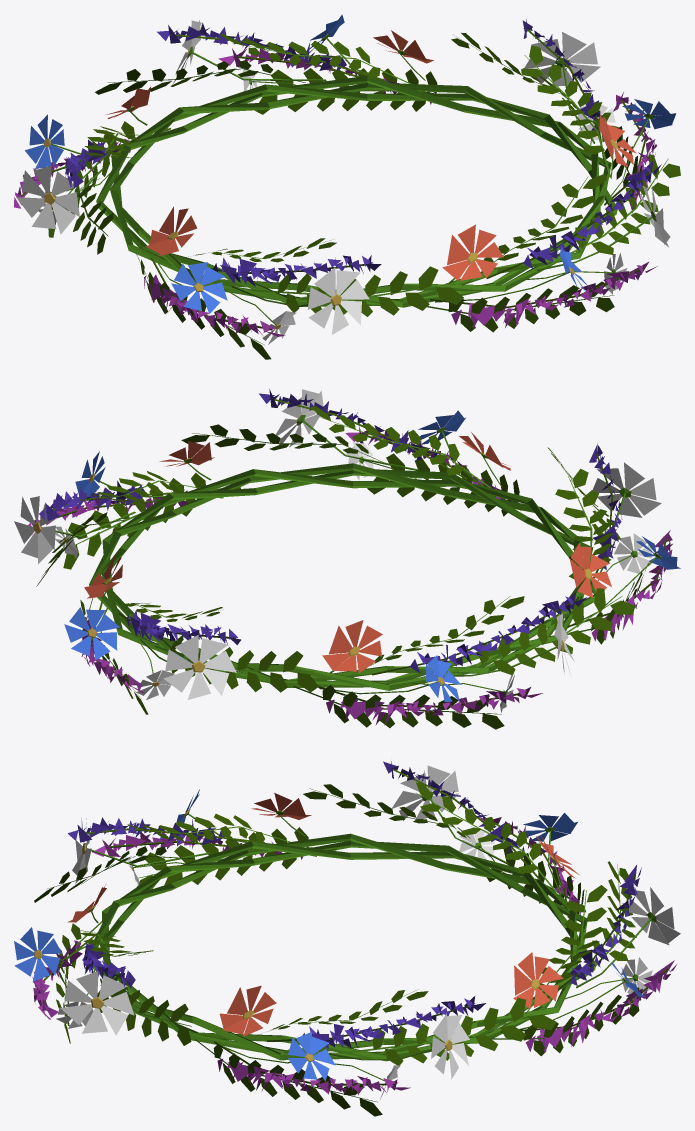
The model's file is Wreath of flowers.fbx.
3 views of the same model, one above another, from view 1: azimuth 30°, elevation 25°; view 2: azimuth 150°, elevation 25°; view 3: azimuth 270°, elevation 25° (orthographic). The views are drawn at different scales.
Parts seen in each view (by area): view 1: Cylinder.004; view 2: Cylinder.004; view 3: Cylinder.004.
Boxes of the visible parts, left/top/right/bottom form: Cylinder.004: left=14, top=14, right=680, bottom=359; Cylinder.004: left=14, top=389, right=680, bottom=729; Cylinder.004: left=14, top=761, right=680, bottom=1116.
Size of the model in its own units: 182 by 33.59 by 187.
